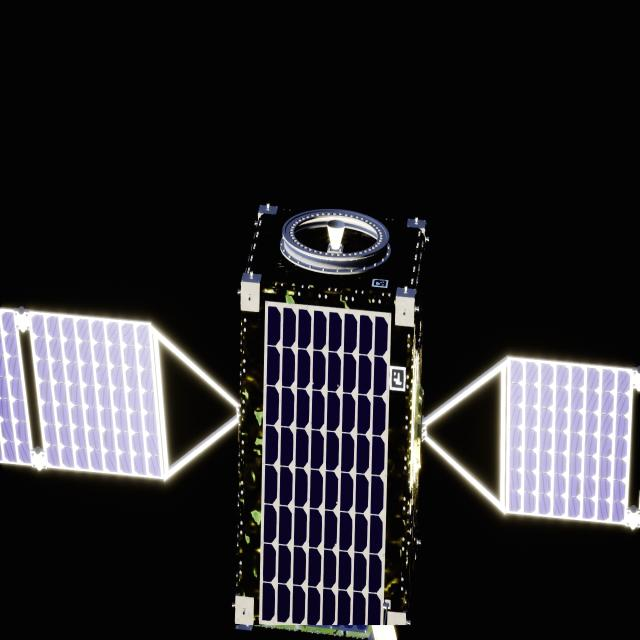medium_debris: (0, 204, 640, 640)
